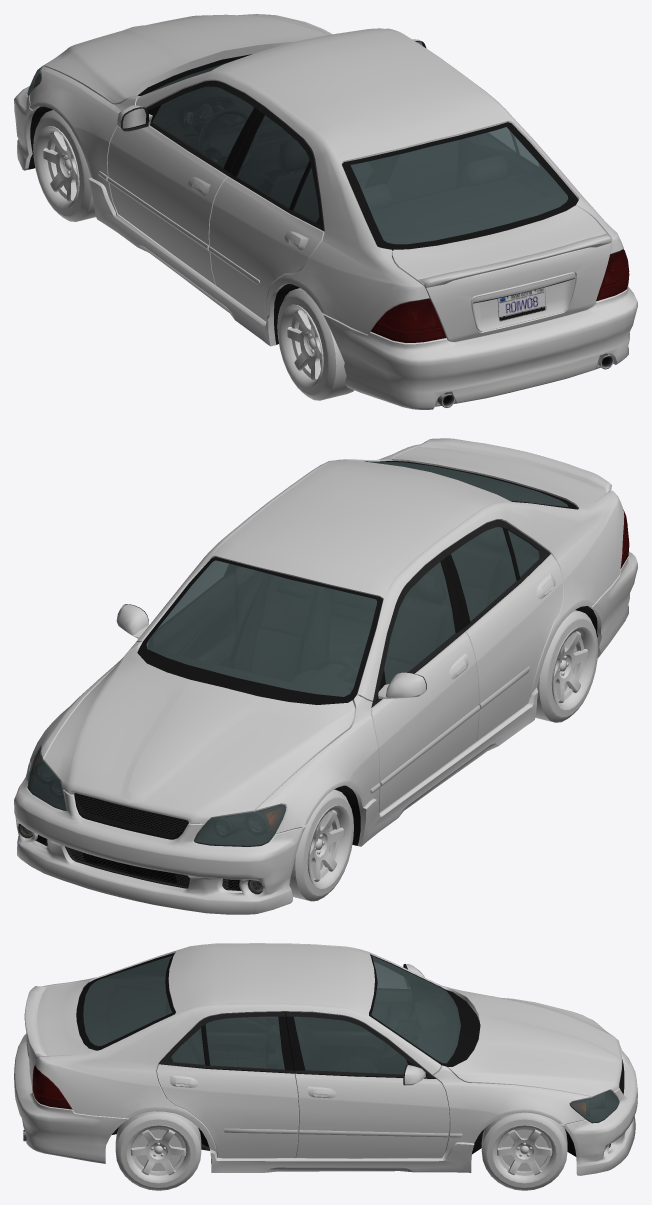
The model's file is Tozzo98.fbx.
3 renders of one model, top to bottom at view 1: azimuth 30°, elevation 25°; view 2: azimuth 150°, elevation 25°; view 3: azimuth 270°, elevation 25°, orthographic. The views are drawn at different scales.
Visible parts, largest first — view 1: Tozzo98_Body, Tozzo98_Interior, Tozzo98_Bumper_Rear, Tozzo98_Rear_Glass, Tozzo98_Hood, Tozzo98_Bottom, Tozzo98_Glass_Body, Tozzo98_Wheel_RL, Tozzo98_Wheel_FL, Tozzo98_Rearlights_Glass, Tozzo98_Spoiler, Tozzo98_Bumper_Front (+1 smaller); view 2: Tozzo98_Body, Tozzo98_Hood, Tozzo98_Interior, Tozzo98_Windshield, Tozzo98_Bumper_Front, Tozzo98_Bottom, Tozzo98_Glass_Body, Tozzo98_Wheel_RL, Tozzo98_Wheel_FL, Tozzo98_Spoiler, Tozzo98_Bumper_Rear, Tozzo98_Bumper_Front_Inner (+2 smaller); view 3: Tozzo98_Body, Tozzo98_Interior, Tozzo98_Hood, Tozzo98_Glass_Body, Tozzo98_Bottom, Tozzo98_Windshield, Tozzo98_Wheel_RR, Tozzo98_Wheel_FR, Tozzo98_Bumper_Rear, Tozzo98_Rear_Glass, Tozzo98_Bumper_Front, Tozzo98_Spoiler (+1 smaller).
Part boxes in pixels (<box>): Tozzo98_Body: <box>29,14,623,346</box>; Tozzo98_Interior: <box>151,65,567,243</box>; Tozzo98_Bumper_Rear: <box>323,285,637,409</box>; Tozzo98_Rear_Glass: <box>350,127,568,244</box>; Tozzo98_Hood: <box>43,14,329,104</box>; Tozzo98_Bottom: <box>28,41,613,407</box>; Tozzo98_Glass_Body: <box>152,86,538,221</box>; Tozzo98_Wheel_RL: <box>277,288,353,400</box>; Tozzo98_Wheel_FL: <box>33,110,95,221</box>; Tozzo98_Rearlights_Glass: <box>370,249,629,342</box>; Tozzo98_Spoiler: <box>418,233,611,287</box>; Tozzo98_Bumper_Front: <box>14,86,35,170</box>; Tozzo98_Body: <box>30,444,624,846</box>; Tozzo98_Hood: <box>43,647,354,823</box>; Tozzo98_Interior: <box>147,462,567,696</box>; Tozzo98_Windshield: <box>27,560,377,846</box>; Tozzo98_Bumper_Front: <box>14,761,305,914</box>; Tozzo98_Bottom: <box>28,461,597,846</box>; Tozzo98_Glass_Body: <box>159,527,539,684</box>; Tozzo98_Wheel_RL: <box>535,610,598,722</box>; Tozzo98_Wheel_FL: <box>289,789,353,901</box>; Tozzo98_Spoiler: <box>418,438,611,492</box>; Tozzo98_Bumper_Rear: <box>589,551,637,657</box>; Tozzo98_Bumper_Front_Inner: <box>18,824,263,894</box>; Tozzo98_Body: <box>27,943,590,1172</box>; Tozzo98_Interior: <box>83,956,460,1073</box>; Tozzo98_Hood: <box>446,988,622,1097</box>; Tozzo98_Glass_Body: <box>171,962,410,1074</box>; Tozzo98_Bottom: <box>23,953,624,1163</box>; Tozzo98_Windshield: <box>371,956,619,1123</box>; Tozzo98_Wheel_RR: <box>115,1111,201,1190</box>; Tozzo98_Wheel_FR: <box>481,1112,567,1190</box>; Tozzo98_Bumper_Rear: <box>14,1033,128,1163</box>; Tozzo98_Rear_Glass: <box>83,956,172,1046</box>; Tozzo98_Bumper_Front: <box>561,1045,637,1175</box>; Tozzo98_Spoiler: <box>24,986,46,1057</box>.
Bounding box in the file's own units: 1867 × 1356 × 4413.
